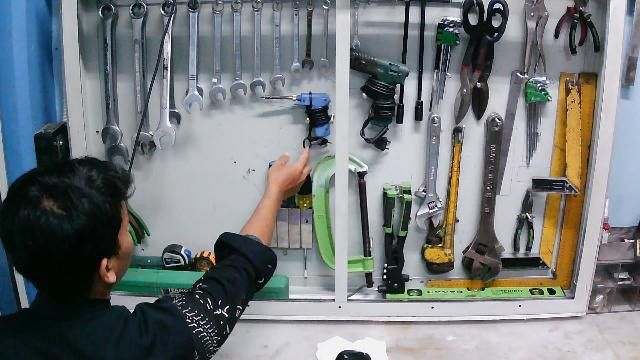solder_electrical: (259, 91, 337, 154)
